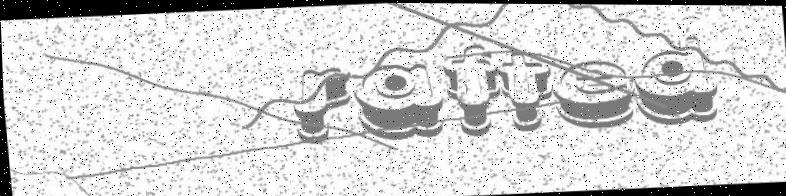a: (350, 60, 446, 143)
d: (628, 32, 720, 127)
e: (549, 56, 636, 130)
f: (439, 41, 505, 138)
r: (288, 65, 353, 146)
t: (495, 48, 554, 134)
